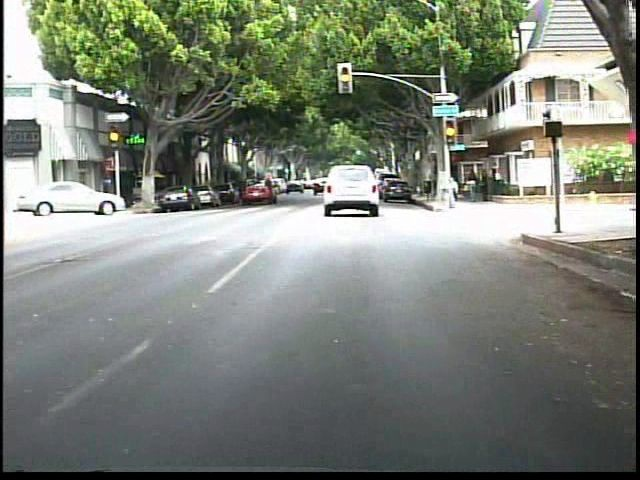person: (441, 173, 463, 212), (465, 170, 481, 205), (478, 167, 492, 204), (488, 160, 502, 196)
